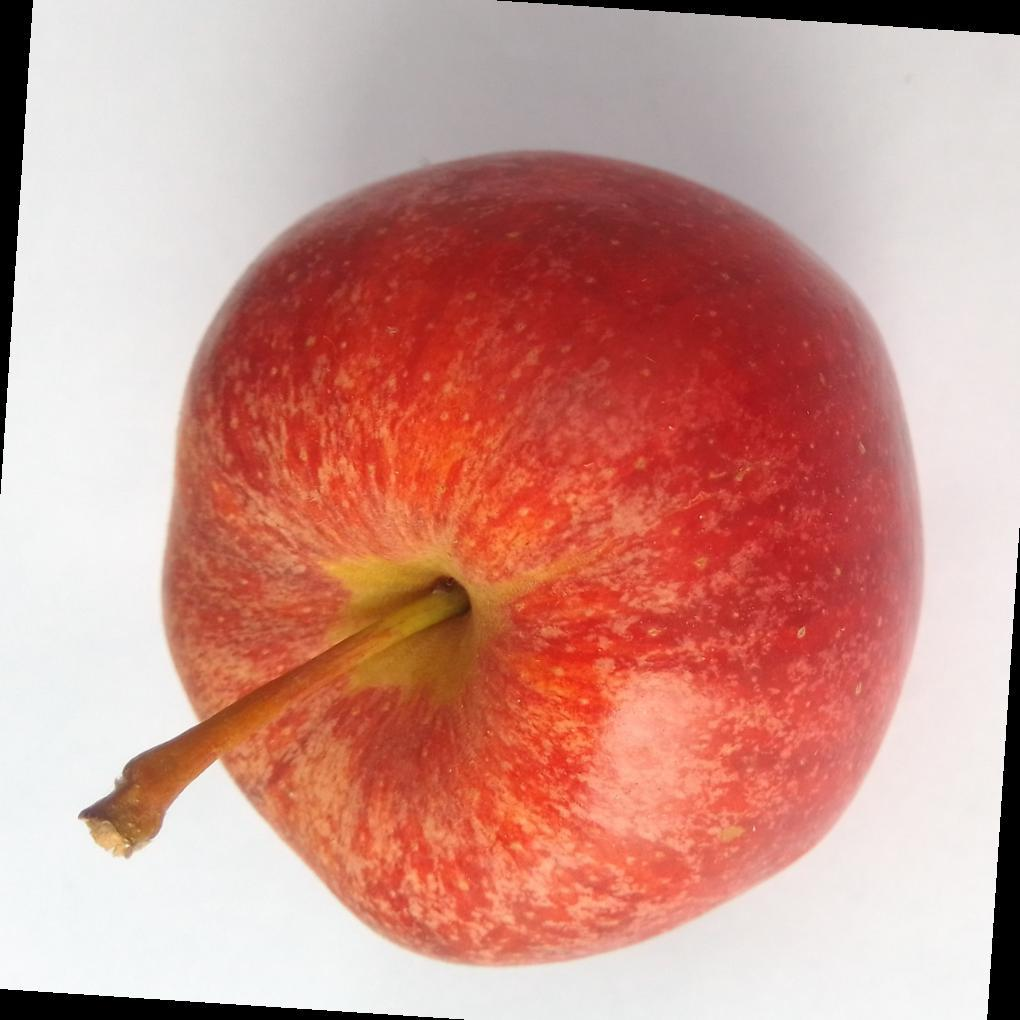FreshGuava: (81, 150, 927, 972)
